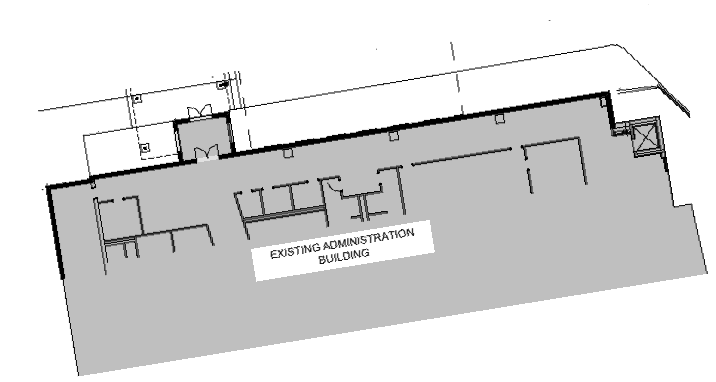double door: (191, 141, 224, 161), (184, 102, 217, 120)
window: (170, 129, 187, 153), (224, 122, 238, 142)
